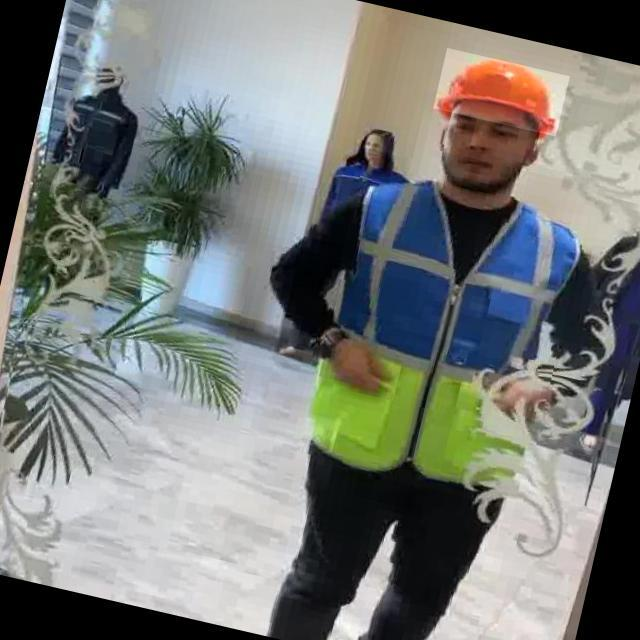Helmet: (433, 48, 570, 137)
Safety Vest: (294, 165, 588, 511)
